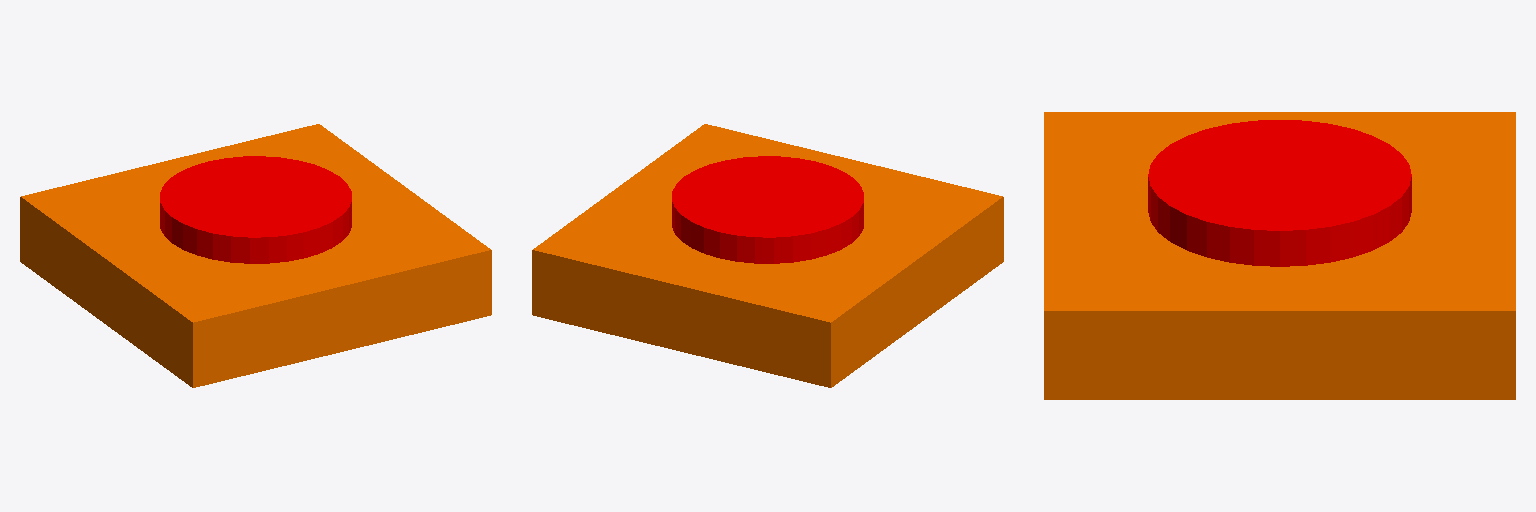
The robot description file, URDF, robot "yellow_button":
<?xml version="1.0"?>
<robot name="yellow_button">
    <link name="robot_base">
        <visual name="push_buttons_target1">
            <origin xyz="0 0 0.010500" rpy="-3.141593 3.141593 -3.141593" />
            <geometry>
                <box size="0.100000 0.100000 0.021000" />
            </geometry>
            <material name="robot_base_material">
                <color rgba="1 0.5 0 1.0" />
            </material>
        </visual>
    </link>
    <joint name="yellow_joint" type="prismatic">
        <axis xyz="0 0 1" />
        <limit velocity="10.0" upper="0.002" effort="250.0" lower="-0.008" />
        <parent link="robot_base" />
        <child link="yellow_top" />
        <origin xyz="0.0 0.0 -0.010519" rpy="-3.141593 3.141593 -3.141593" />
    </joint>
    <link name="yellow_top">
        <inertial>
            <origin xyz="0.000000 0.000000 0.037950" rpy="-3.141593 3.141593 -3.141593" />
            <inertia izz="2.6688580837659e-05" iyy="1.3361752087318e-05" ixx="1.3361750093067e-05" ixy="-1.7668542498804e-21" ixz="9.9680512074237e-14" iyz="-1.9742168545736e-13" />
            <mass value="0.068521969020367" />
        </inertial>
        <collision name="target_button_topPlate1">
            <origin xyz="0.000000 0.000000 0.037950" rpy="-3.141593 3.141593 -3.141593" />
            <geometry>
                <cylinder radius="0.028000000864267" length="0.0017499999376014" />
            </geometry>
        </collision>
        <visual name="target_button_topPlate1">
            <origin xyz="0.000000 0.000000 0.037950" rpy="-3.141593 3.141593 -3.141593" />
            <geometry>
                <cylinder radius="0.028000000864267" length="0.0017499999376014" />
            </geometry>
            <material name="target_button_topPlate1_material">
                <color rgba="1.000000 0.000000 0.000000 1.0" />
            </material>
        </visual>
        <visual name="target_button_wrap1">
            <origin xyz="0.000000 0.000000 0.034919" rpy="-3.141593 3.141593 -3.141593" />
            <geometry>
                <cylinder radius="0.028000000864267" length="0.0099999997764826" />
            </geometry>
            <material name="target_button_wrap1_material">
                <color rgba="1.000000 0.000000 0.000000 1.0" />
            </material>
        </visual>
    </link>
</robot>

--- What the picture shows (computed from the rendered views, not written in the file) ---
The picture shows the robot from 3 angles, left to right: view 1: azimuth 30°, elevation 25°; view 2: azimuth 150°, elevation 25°; view 3: azimuth 270°, elevation 25°; orthographic projection.
Model yellow_button with 2 links and 1 joints (1 prismatic), rooted at robot_base, posed every joint at zero.
Links seen in each view (by area): view 1: robot_base, yellow_top; view 2: robot_base, yellow_top; view 3: robot_base, yellow_top.
Link boxes in pixels (x1,y1,x2,y2): robot_base: (20, 124, 491, 387); yellow_top: (160, 156, 351, 263); robot_base: (532, 124, 1003, 387); yellow_top: (672, 156, 863, 263); robot_base: (1044, 112, 1515, 399); yellow_top: (1148, 120, 1411, 266).
Bounding box of the posed robot: 0.1 × 0.1 × 0.0294 m (x, y, z).
Geometry: primitives only (box / cylinder / sphere), no mesh files.